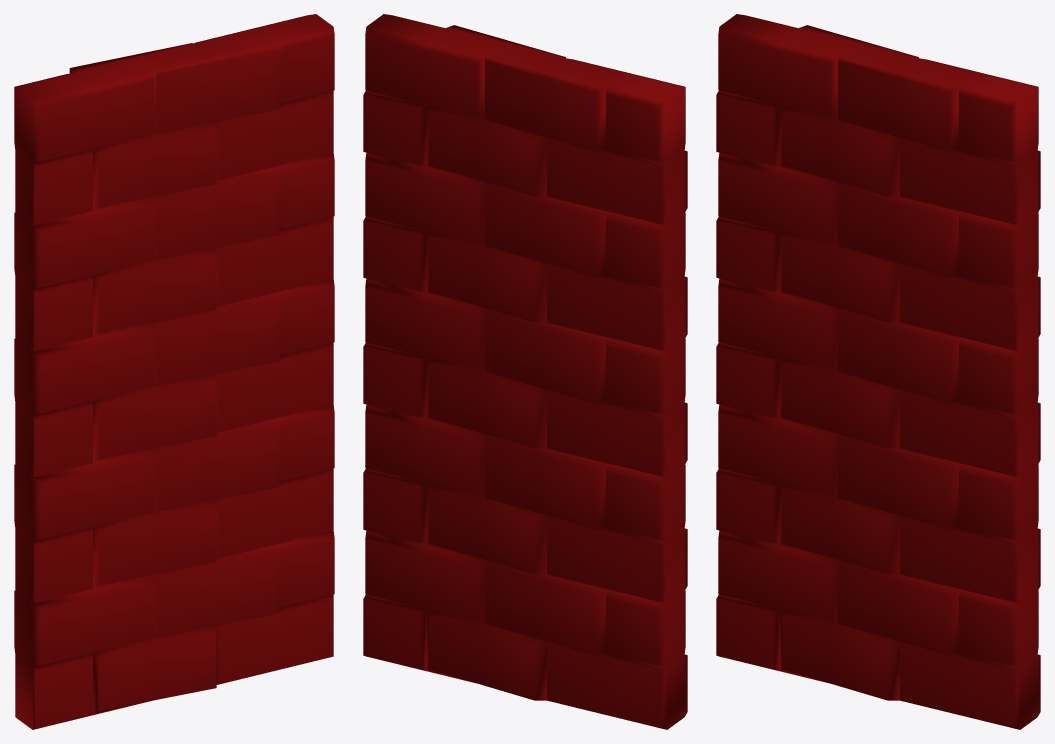
Rendered from BrickWall.003.glb.
3 renders of one model, left to right at view 1: azimuth 30°, elevation 25°; view 2: azimuth 150°, elevation 25°; view 3: azimuth 330°, elevation 25°, orthographic.
Parts seen in each view (by area): view 1: BrickWall.003; view 2: BrickWall.003; view 3: BrickWall.003.
Part boxes in pixels (x1,y1,x2,y2): BrickWall.003: (14, 14, 334, 729); BrickWall.003: (363, 14, 687, 729); BrickWall.003: (716, 14, 1040, 729).
Size of what is drawn, in the model's own units: 1.99 by 3.98 by 0.3841.
Materials: 1 (1 with a texture image).
